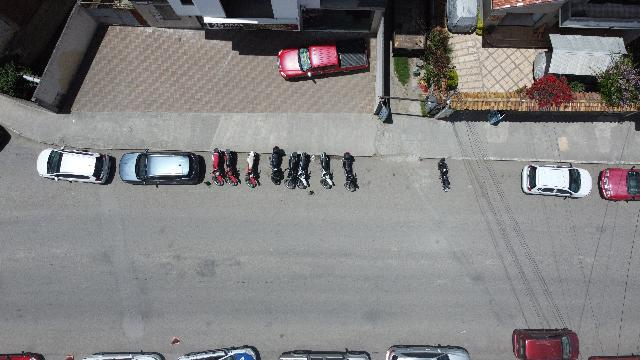Vehiculo: (277, 38, 369, 82), (119, 150, 199, 186), (37, 148, 111, 185), (520, 164, 592, 198), (513, 326, 581, 360), (598, 166, 640, 202), (386, 344, 470, 360), (178, 345, 260, 359), (279, 348, 371, 359), (82, 351, 166, 359)
